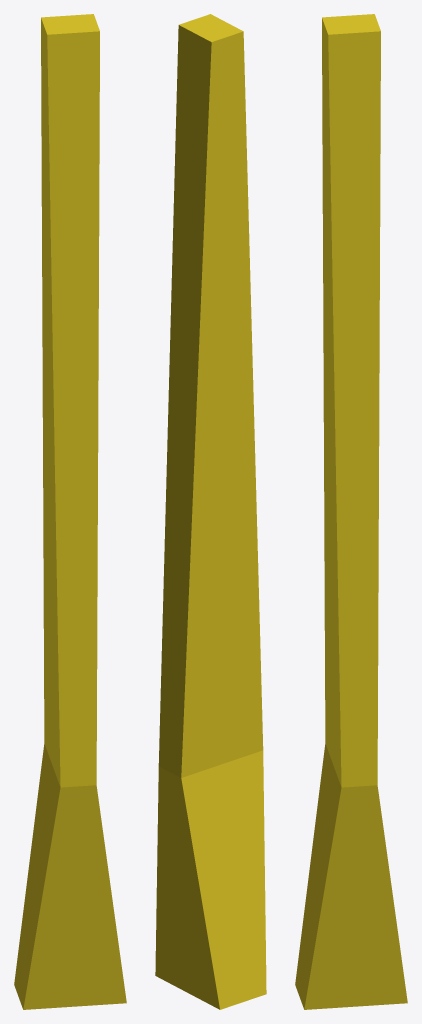
Rendered from Natures2g4-yellow.fbx.
The picture shows the model from 3 angles, left to right: view 1: azimuth 90°, elevation 25°; view 2: azimuth 210°, elevation 25°; view 3: azimuth 270°, elevation 25°; orthographic projection.
Parts seen in each view (by area): view 1: g4-yellow; view 2: g4-yellow; view 3: g4-yellow.
Boxes of the visible parts, box(x1,y1,x2,y2) form: g4-yellow: box(14, 14, 126, 1009); g4-yellow: box(155, 14, 266, 1009); g4-yellow: box(295, 14, 407, 1009).
Bounding box in the file's own units: 19.62 × 189 × 19.96.
